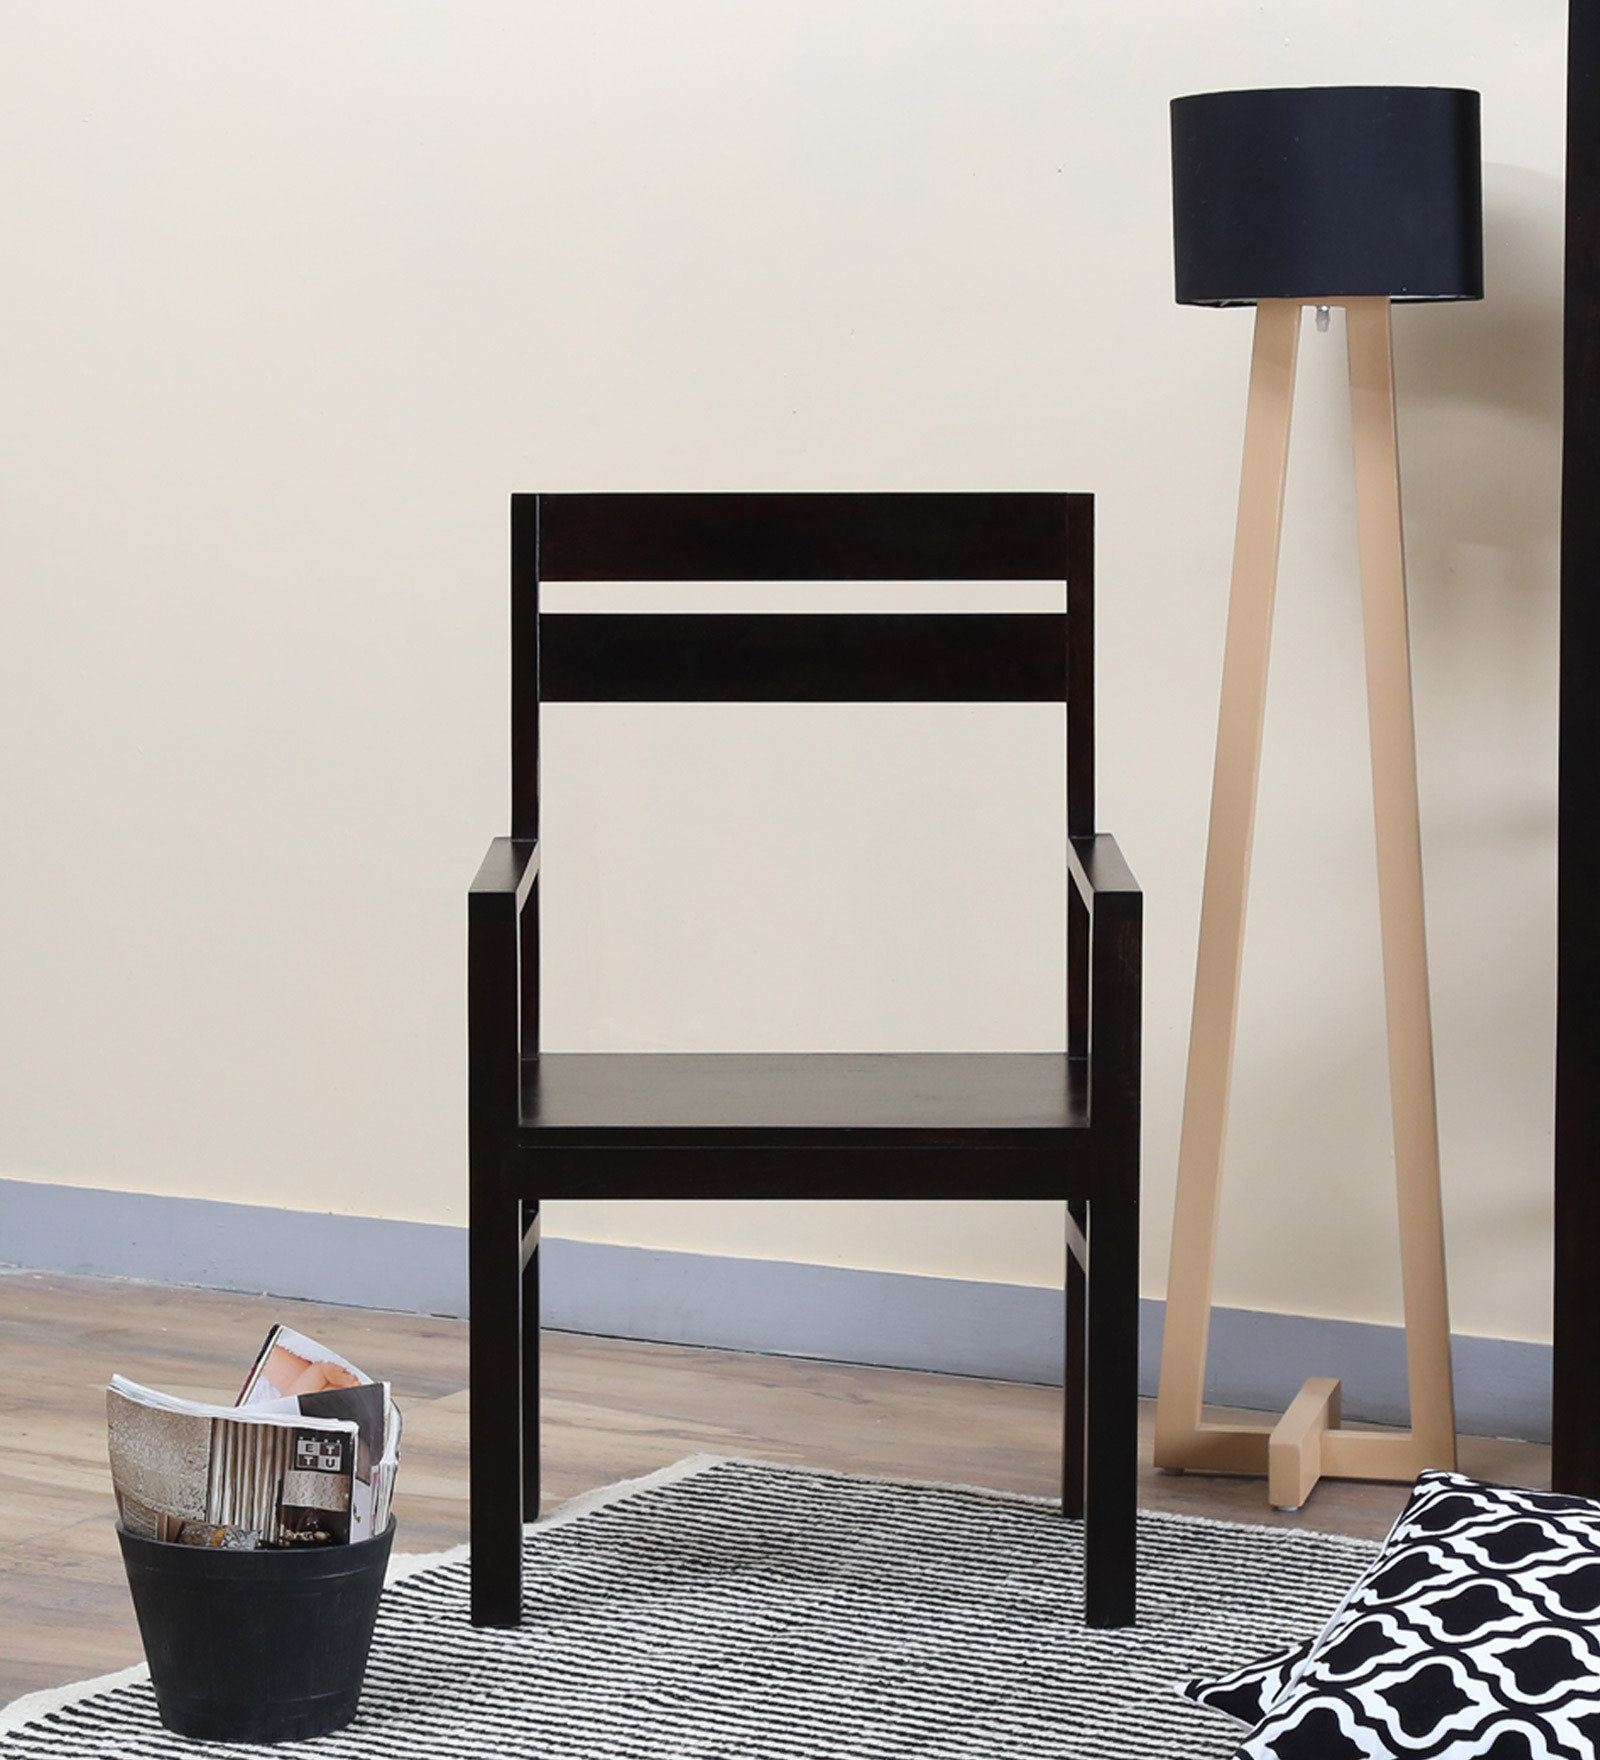Enkel Arm Chair in Warm Chestnut Finish by Woodsworth: (458, 474, 1179, 1647)
